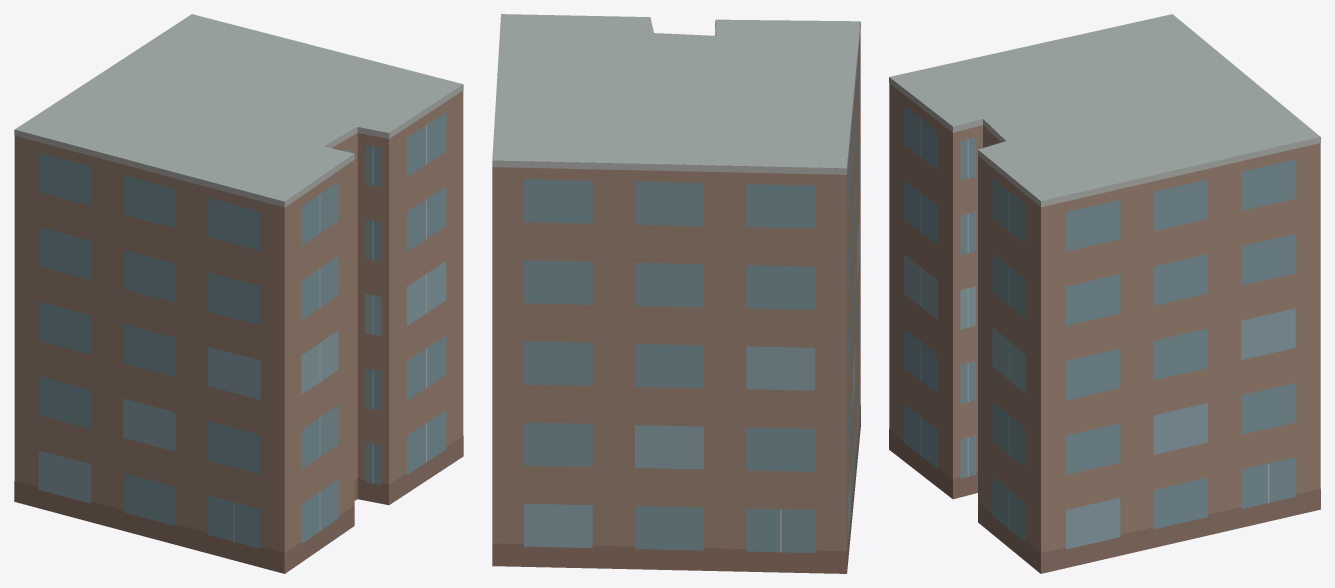
The model's file is survey-upis-32746790.glb.
3 views of the same model, side by side, from view 1: azimuth 30°, elevation 25°; view 2: azimuth 150°, elevation 25°; view 3: azimuth 270°, elevation 25° (orthographic). The views are drawn at different scales.
Visible parts, largest first — view 1: survey-upis-32746790.tmp; view 2: survey-upis-32746790.tmp; view 3: survey-upis-32746790.tmp.
Boxes of the visible parts, left/top/right/bottom form: survey-upis-32746790.tmp: left=14, top=14, right=463, bottom=573; survey-upis-32746790.tmp: left=492, top=14, right=860, bottom=573; survey-upis-32746790.tmp: left=889, top=14, right=1320, bottom=573.
Size of the model in its own units: 16.17 by 15 by 15.75.
